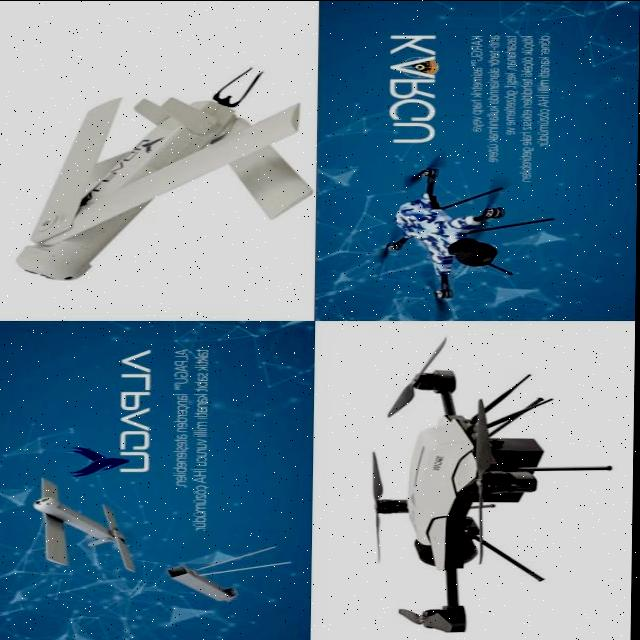drone: (348, 334, 581, 640), (369, 150, 554, 318)
